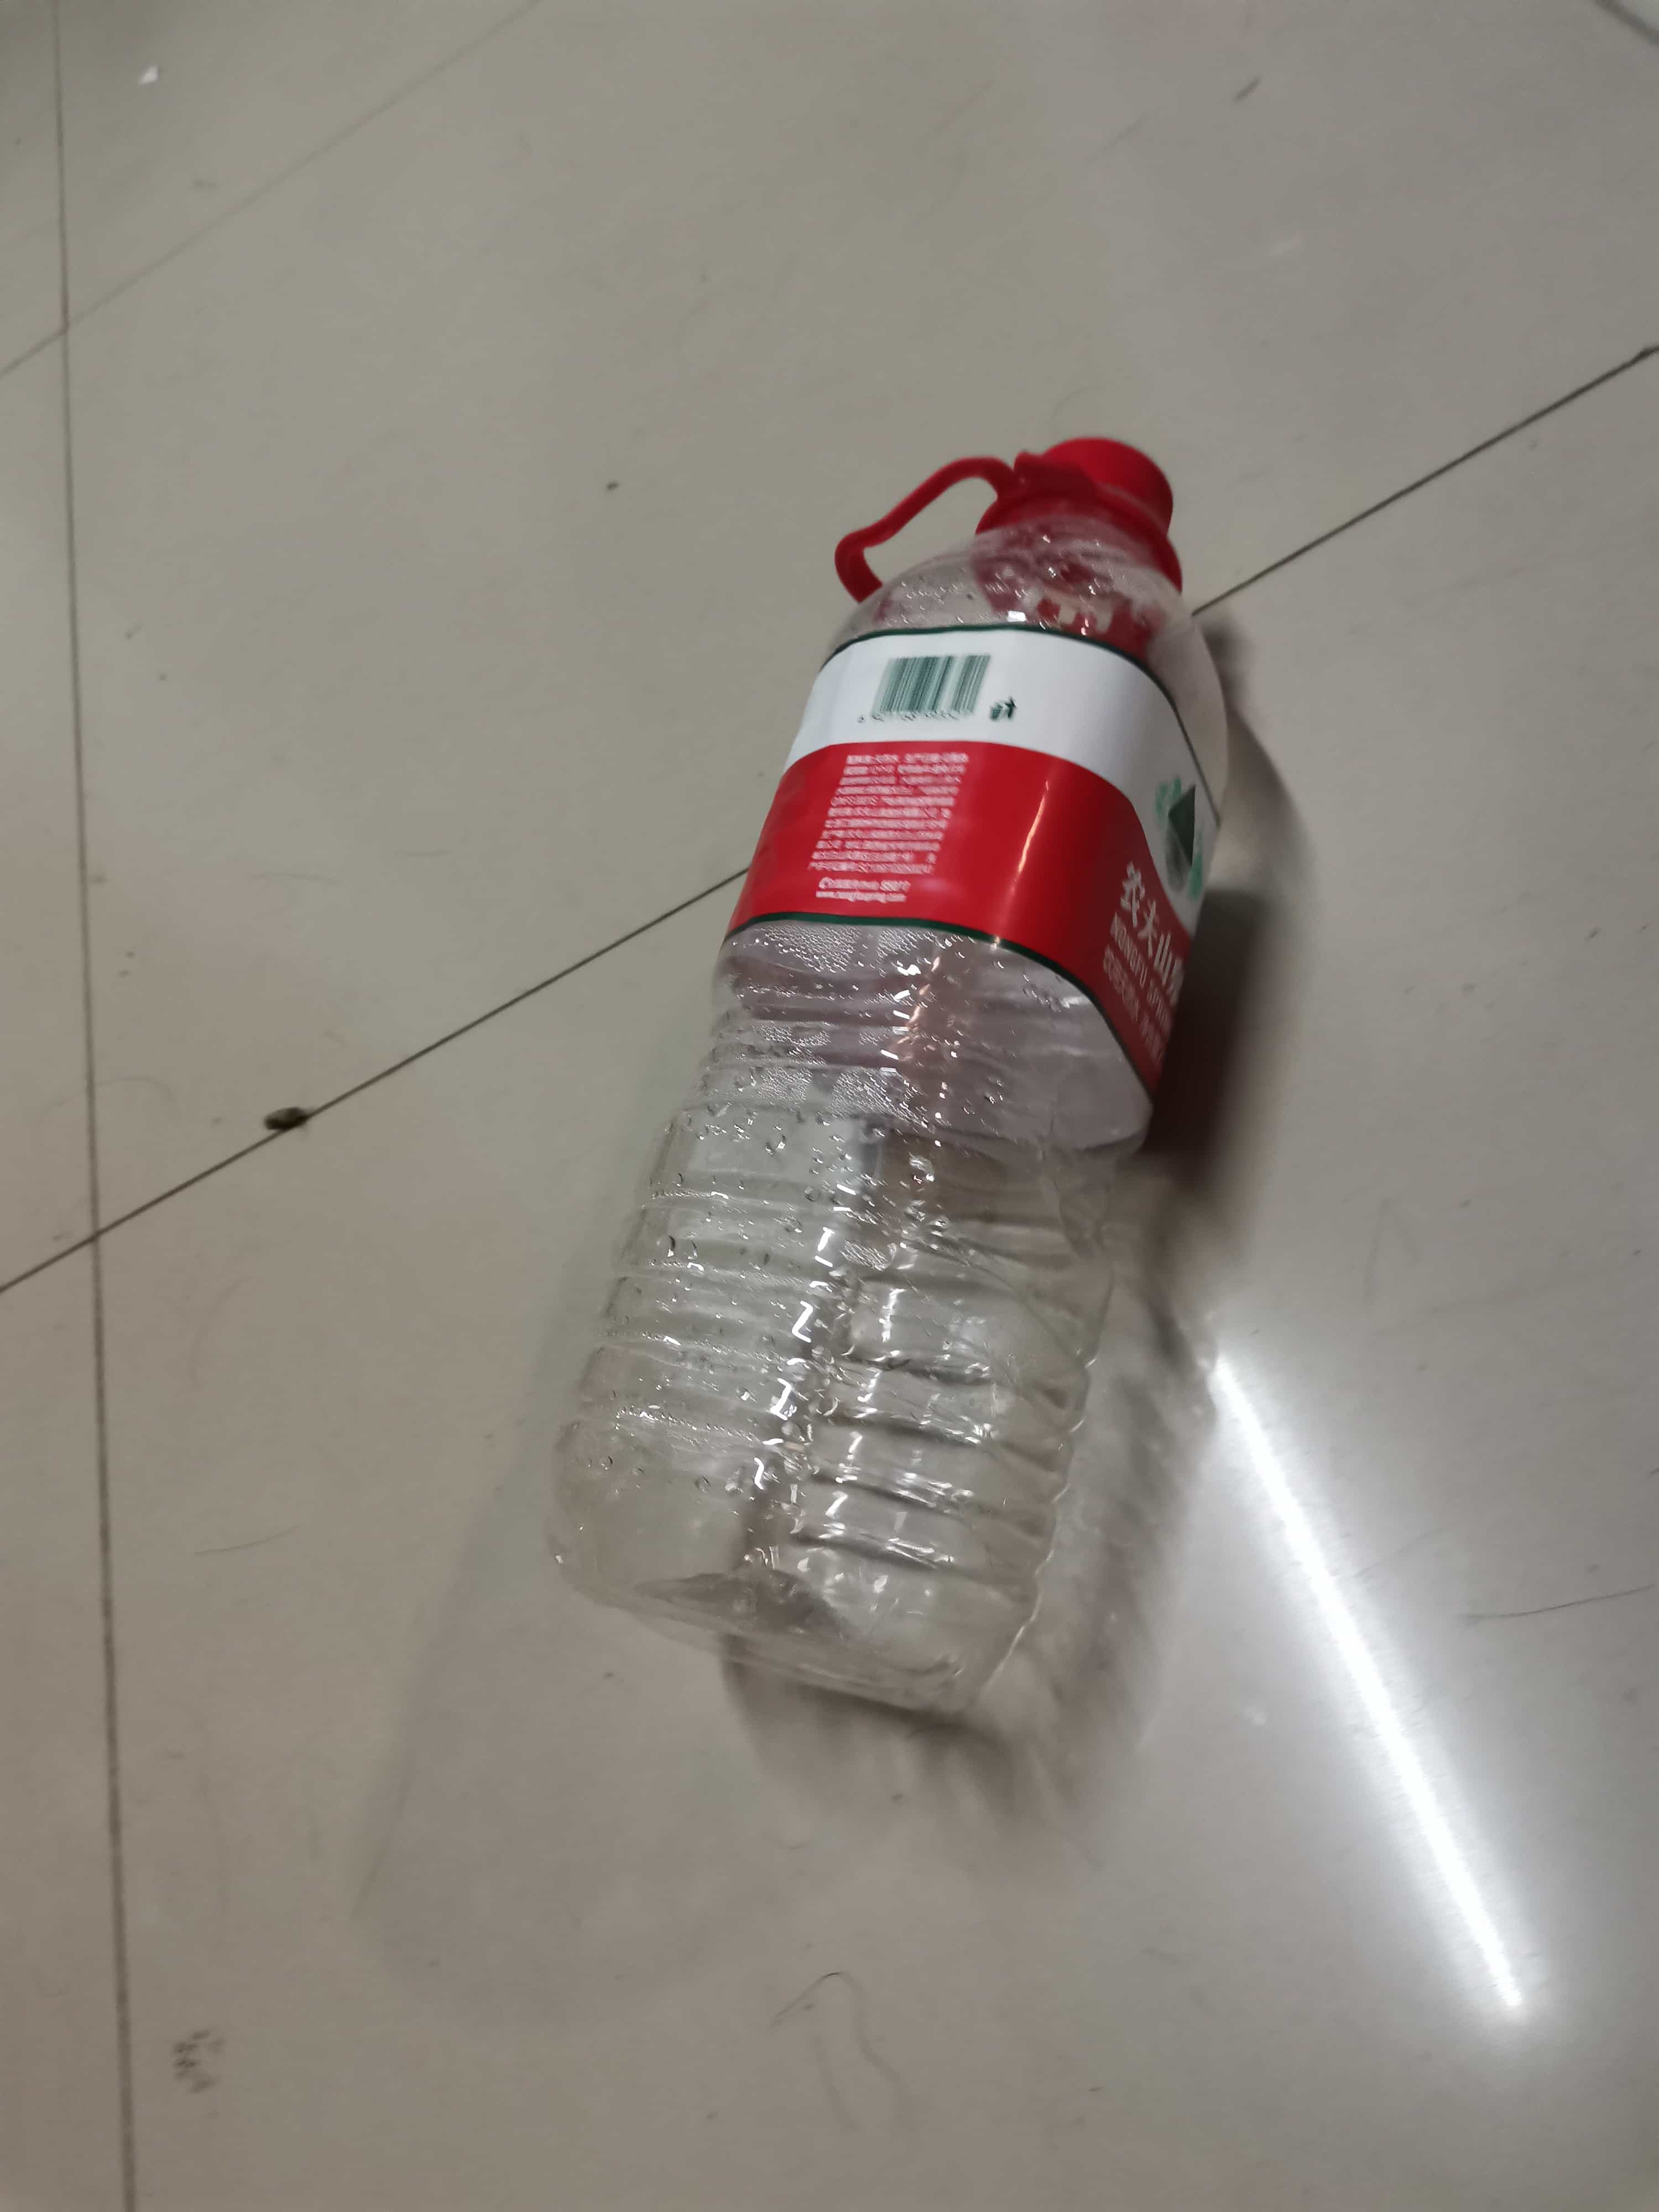plastic_bottle: (523, 418, 1255, 1752)
